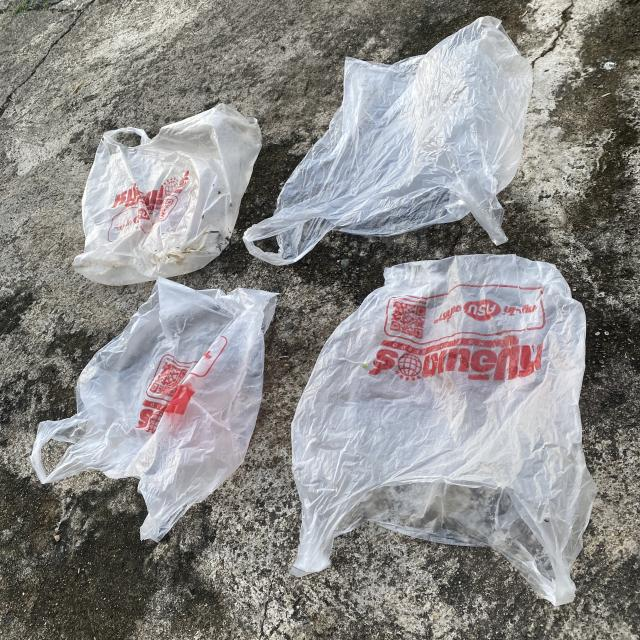Single-layer Plastic: (291, 255, 595, 605), (244, 16, 532, 265), (30, 278, 276, 541), (74, 104, 261, 285)
